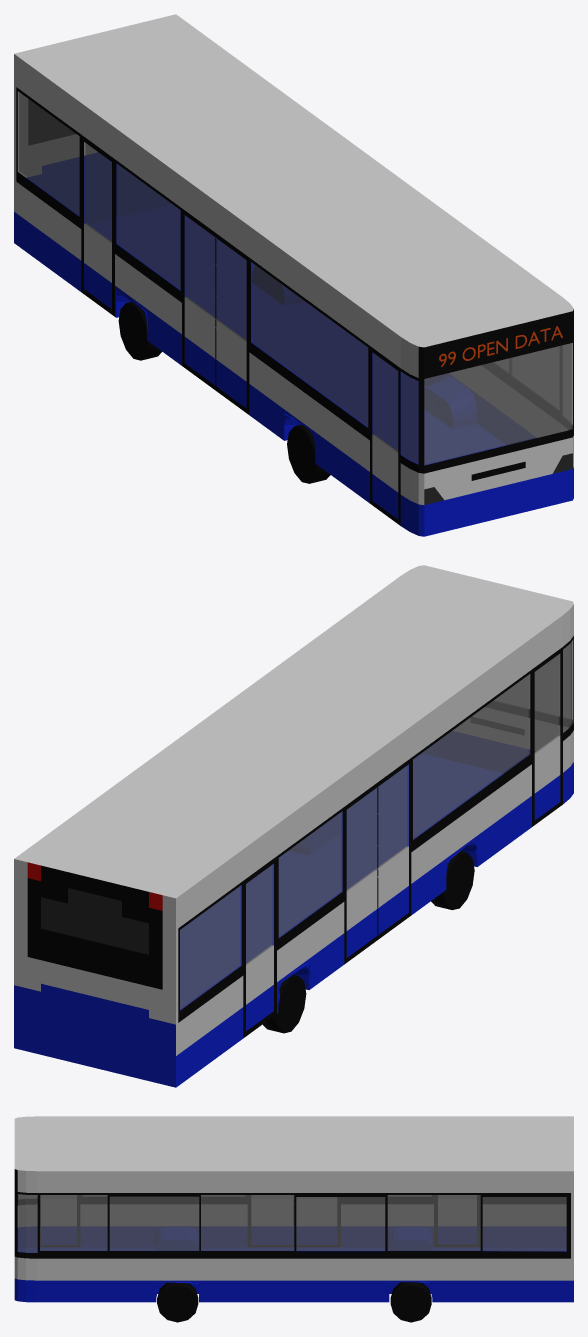
Rendered from bussi.obj.
3 views of the same model, one above another, from view 1: azimuth 30°, elevation 25°; view 2: azimuth 150°, elevation 25°; view 3: azimuth 270°, elevation 25° (orthographic). The views are drawn at different scales.
Visible parts, largest first — view 1: Cube; view 2: Cube; view 3: Cube.
Boxes of the visible parts, x1,y1,x2,y2 form: Cube: [14, 14, 573, 536]; Cube: [14, 565, 573, 1087]; Cube: [14, 1116, 573, 1322].
Bounding box in the file's own units: 1.01 × 1.29 × 4.28.
